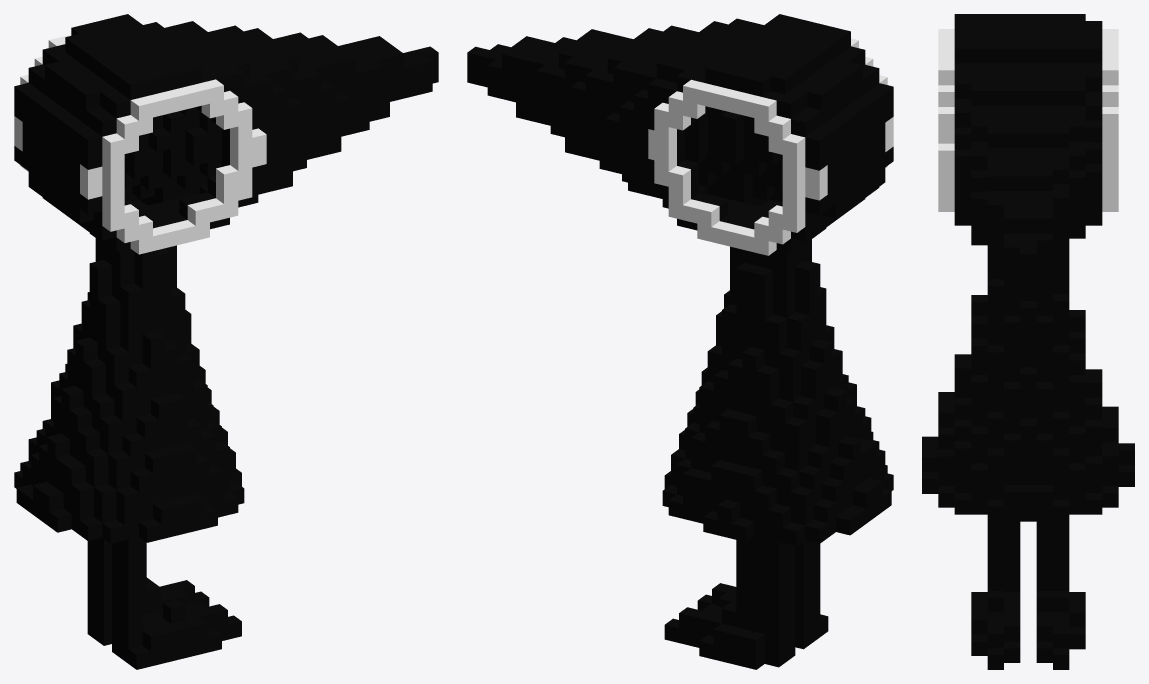
Rendered from crow-0-Crow.obj.
3 views of the same model, side by side, from view 1: azimuth 30°, elevation 25°; view 2: azimuth 150°, elevation 25°; view 3: azimuth 270°, elevation 25° (orthographic).
Visible parts, largest first — view 1: Crow; view 2: Crow; view 3: Crow.
Part boxes in pixels (left/top/right/bottom): Crow: left=14, top=14, right=438, bottom=669; Crow: left=467, top=14, right=893, bottom=669; Crow: left=922, top=14, right=1134, bottom=669.
Bounding box in the file's own units: 2.8 × 4 × 1.3.
1 material, 1 textured.
